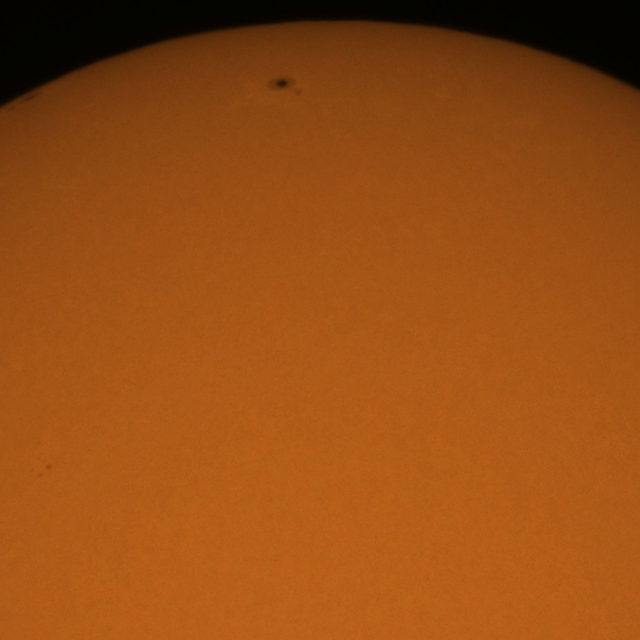sunspot: (266, 76, 305, 98), (33, 461, 52, 479)
